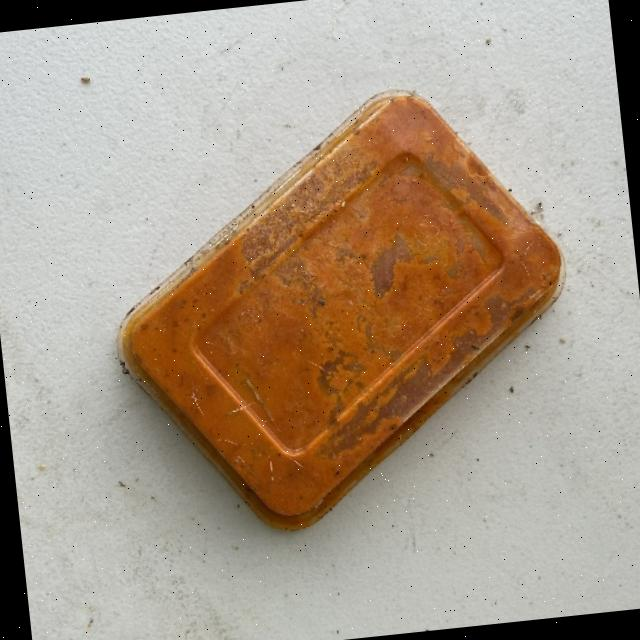plastic: (91, 72, 588, 547)
